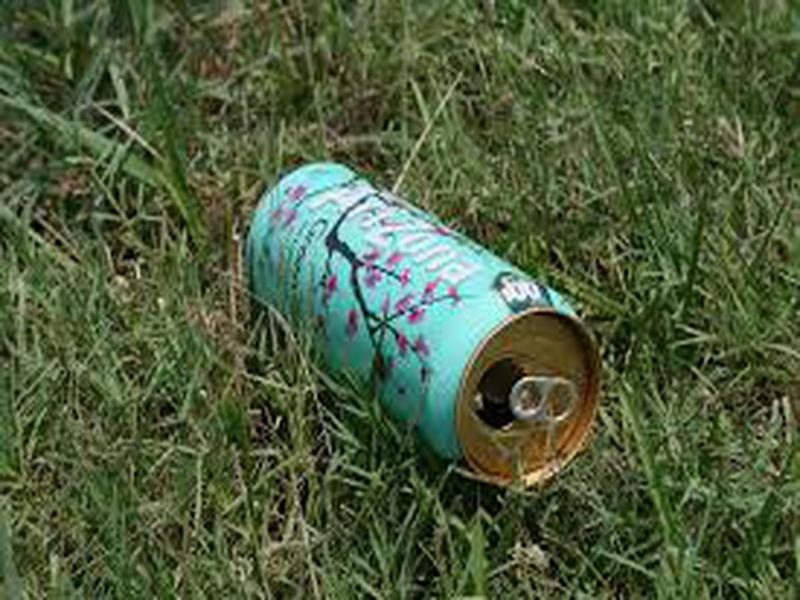can: (233, 148, 606, 496)
